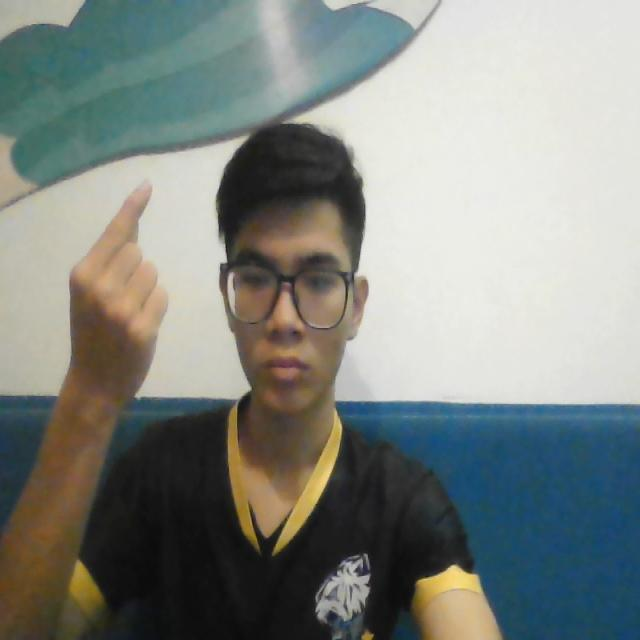G: (65, 174, 176, 392)
